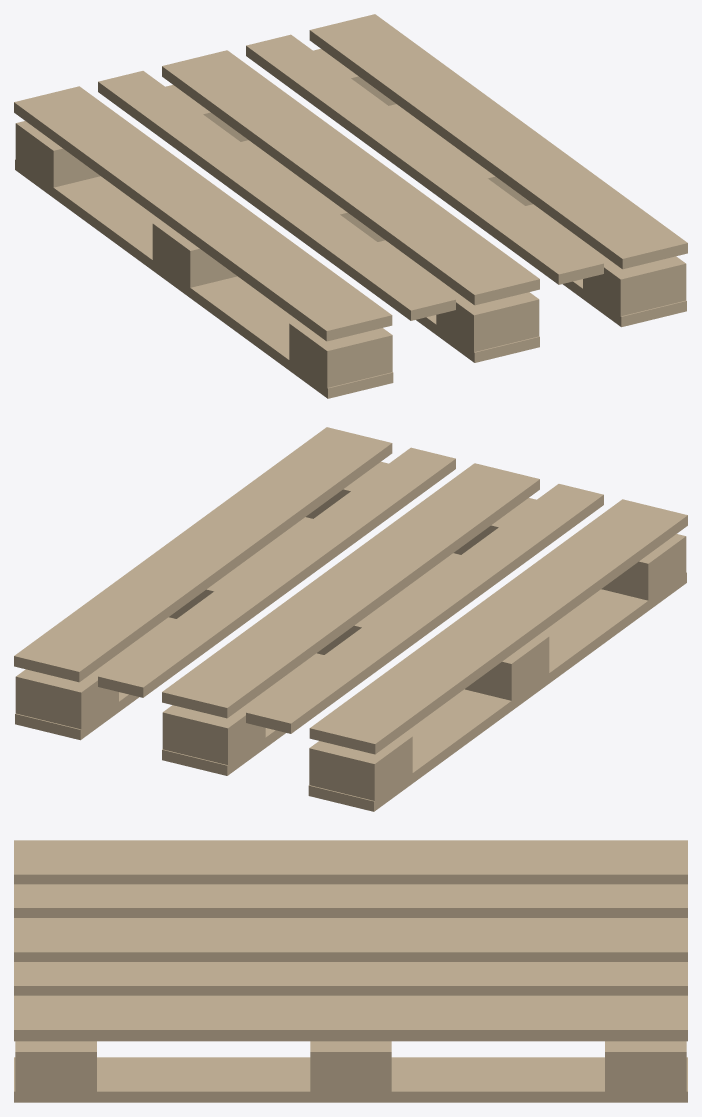
File: unit_epal1_1200x800x144_v14.glb
3 renders of one model, top to bottom at view 1: azimuth 30°, elevation 25°; view 2: azimuth 150°, elevation 25°; view 3: azimuth 270°, elevation 25°, orthographic. The views are drawn at different scales.
Parts seen in each view (by area): view 1: EPAL1_TOP_4, EPAL1_TOP_0, EPAL1_TOP_2, EPAL1_TOP_3, EPAL1_TOP_1, EPAL1_BOTTOM_0, EPAL1_BLOCK_0_2, EPAL1_BLOCK_2_2, EPAL1_BLOCK_1_2, EPAL1_BLOCK_0_0, EPAL1_BLOCK_0_1, EPAL1_BOTTOM_1 (+5 smaller); view 2: EPAL1_TOP_4, EPAL1_TOP_0, EPAL1_TOP_2, EPAL1_TOP_3, EPAL1_TOP_1, EPAL1_BOTTOM_0, EPAL1_BLOCK_0_0, EPAL1_BLOCK_2_0, EPAL1_BLOCK_1_0, EPAL1_BLOCK_0_2, EPAL1_BLOCK_0_1, EPAL1_BOTTOM_1 (+5 smaller); view 3: EPAL1_TOP_4, EPAL1_TOP_0, EPAL1_TOP_2, EPAL1_TOP_1, EPAL1_TOP_3, EPAL1_BOTTOM_2, EPAL1_BLOCK_2_0, EPAL1_BLOCK_2_1, EPAL1_BLOCK_2_2.
Boxes of the visible parts, x1=… form: EPAL1_TOP_4: x1=309, y1=14, x2=687, y2=269; EPAL1_TOP_0: x1=14, y1=86, x2=392, y2=341; EPAL1_TOP_2: x1=162, y1=50, x2=539, y2=305; EPAL1_TOP_3: x1=246, y1=34, x2=603, y2=284; EPAL1_TOP_1: x1=98, y1=71, x2=455, y2=320; EPAL1_BOTTOM_0: x1=15, y1=159, x2=393, y2=398; EPAL1_BLOCK_0_2: x1=289, y1=321, x2=392, y2=387; EPAL1_BLOCK_2_2: x1=583, y1=249, x2=686, y2=316; EPAL1_BLOCK_1_2: x1=436, y1=285, x2=539, y2=351; EPAL1_BLOCK_0_0: x1=15, y1=121, x2=100, y2=187; EPAL1_BLOCK_0_1: x1=152, y1=221, x2=236, y2=287; EPAL1_BOTTOM_1: x1=241, y1=140, x2=539, y2=362; EPAL1_TOP_4: x1=14, y1=427, x2=392, y2=682; EPAL1_TOP_0: x1=309, y1=499, x2=687, y2=754; EPAL1_TOP_2: x1=162, y1=463, x2=539, y2=718; EPAL1_TOP_3: x1=98, y1=447, x2=455, y2=697; EPAL1_TOP_1: x1=246, y1=484, x2=603, y2=733; EPAL1_BOTTOM_0: x1=308, y1=572, x2=686, y2=811; EPAL1_BLOCK_0_0: x1=309, y1=734, x2=412, y2=800; EPAL1_BLOCK_2_0: x1=15, y1=662, x2=118, y2=729; EPAL1_BLOCK_1_0: x1=162, y1=698, x2=265, y2=764; EPAL1_BLOCK_0_2: x1=601, y1=534, x2=686, y2=600; EPAL1_BLOCK_0_1: x1=465, y1=634, x2=549, y2=700; EPAL1_BOTTOM_1: x1=162, y1=553, x2=460, y2=775; EPAL1_TOP_4: x1=14, y1=995, x2=687, y2=1041; EPAL1_TOP_0: x1=14, y1=840, x2=687, y2=884; EPAL1_TOP_2: x1=14, y1=918, x2=687, y2=961; EPAL1_TOP_1: x1=14, y1=884, x2=687, y2=917; EPAL1_TOP_3: x1=14, y1=962, x2=687, y2=995; EPAL1_BOTTOM_2: x1=14, y1=1057, x2=687, y2=1102; EPAL1_BLOCK_2_0: x1=605, y1=1041, x2=686, y2=1091; EPAL1_BLOCK_2_1: x1=310, y1=1041, x2=391, y2=1091; EPAL1_BLOCK_2_2: x1=15, y1=1041, x2=96, y2=1091.
Size of the model in its own units: 0.8 by 0.144 by 1.2.
